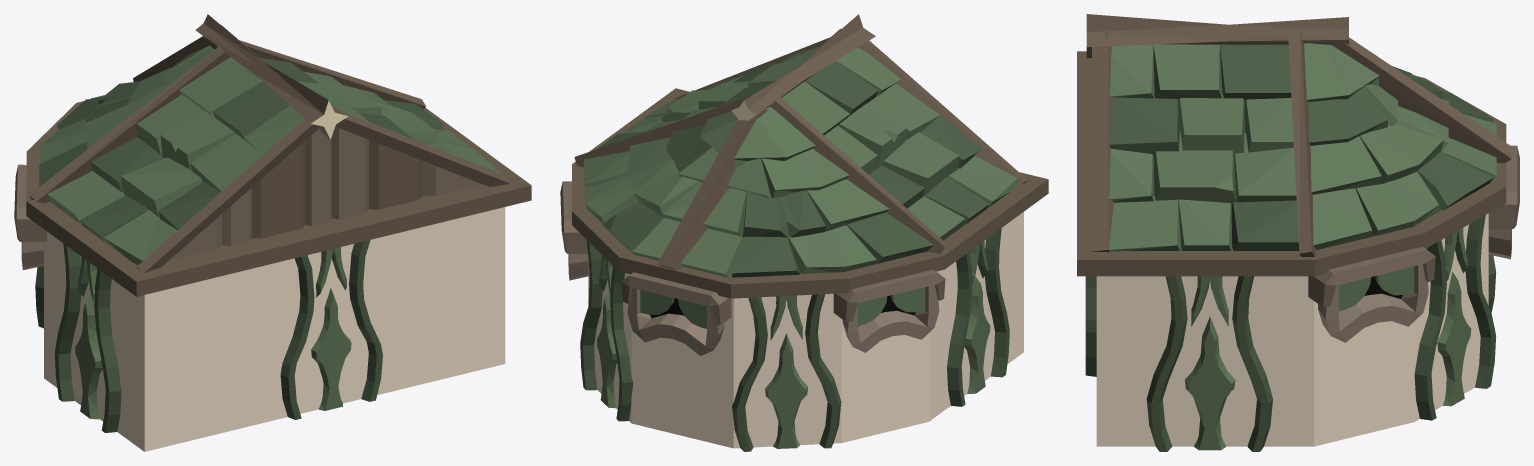
Rendered from _FORTRESS_ROOF_01.fbx.
3 renders of one model, left to right at view 1: azimuth 30°, elevation 25°; view 2: azimuth 150°, elevation 25°; view 3: azimuth 270°, elevation 25°, orthographic. The views are drawn at different scales.
Visible parts, largest first — view 1: FORTRESS_ROOF_01; view 2: FORTRESS_ROOF_01; view 3: FORTRESS_ROOF_01.
Boxes of the visible parts, x1,y1,x2,y2 form: FORTRESS_ROOF_01: (14, 14, 531, 451); FORTRESS_ROOF_01: (560, 14, 1048, 451); FORTRESS_ROOF_01: (1077, 14, 1519, 451).
Bounding box in the file's own units: 542 × 398 × 474.
